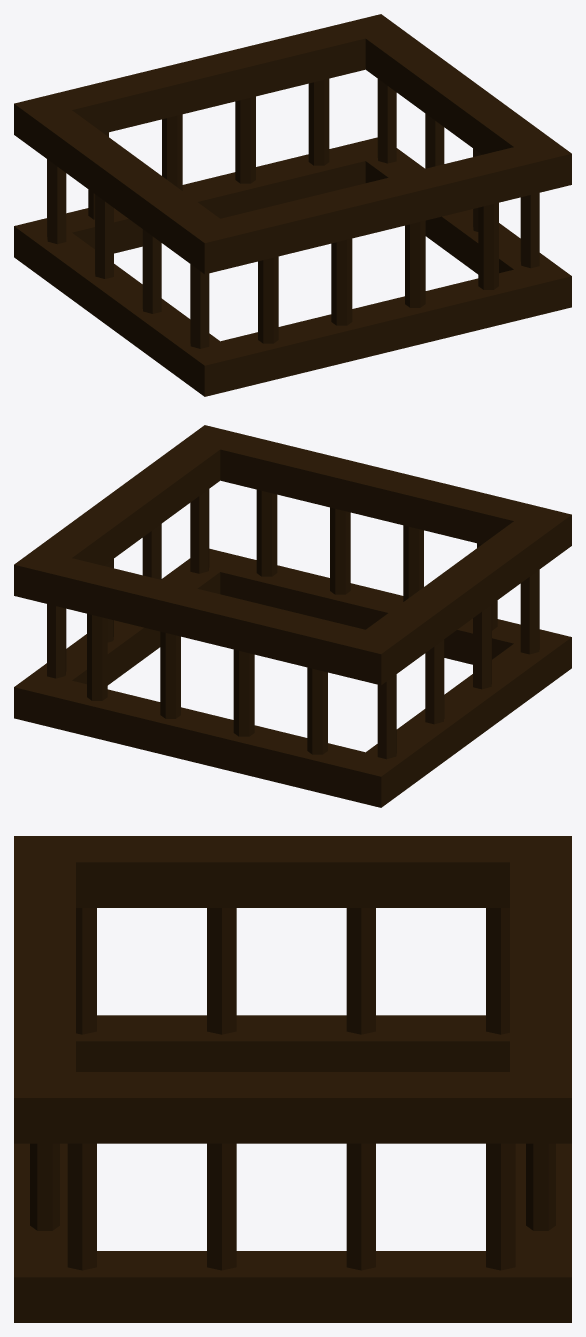
The model's file is bordes.obj.
3 renders of one model, top to bottom at view 1: azimuth 30°, elevation 25°; view 2: azimuth 150°, elevation 25°; view 3: azimuth 270°, elevation 25°, orthographic. The views are drawn at different scales.
Visible parts, largest first — view 1: Railing.003; view 2: Railing.003; view 3: Railing.003.
Part boxes in pixels (x1,y1,x2,y2): Railing.003: (14,14,571,396); Railing.003: (14,425,571,807); Railing.003: (14,836,571,1322).
Size of the model in its own units: 5 by 2 by 4.5.
4 materials, 4 textured.
